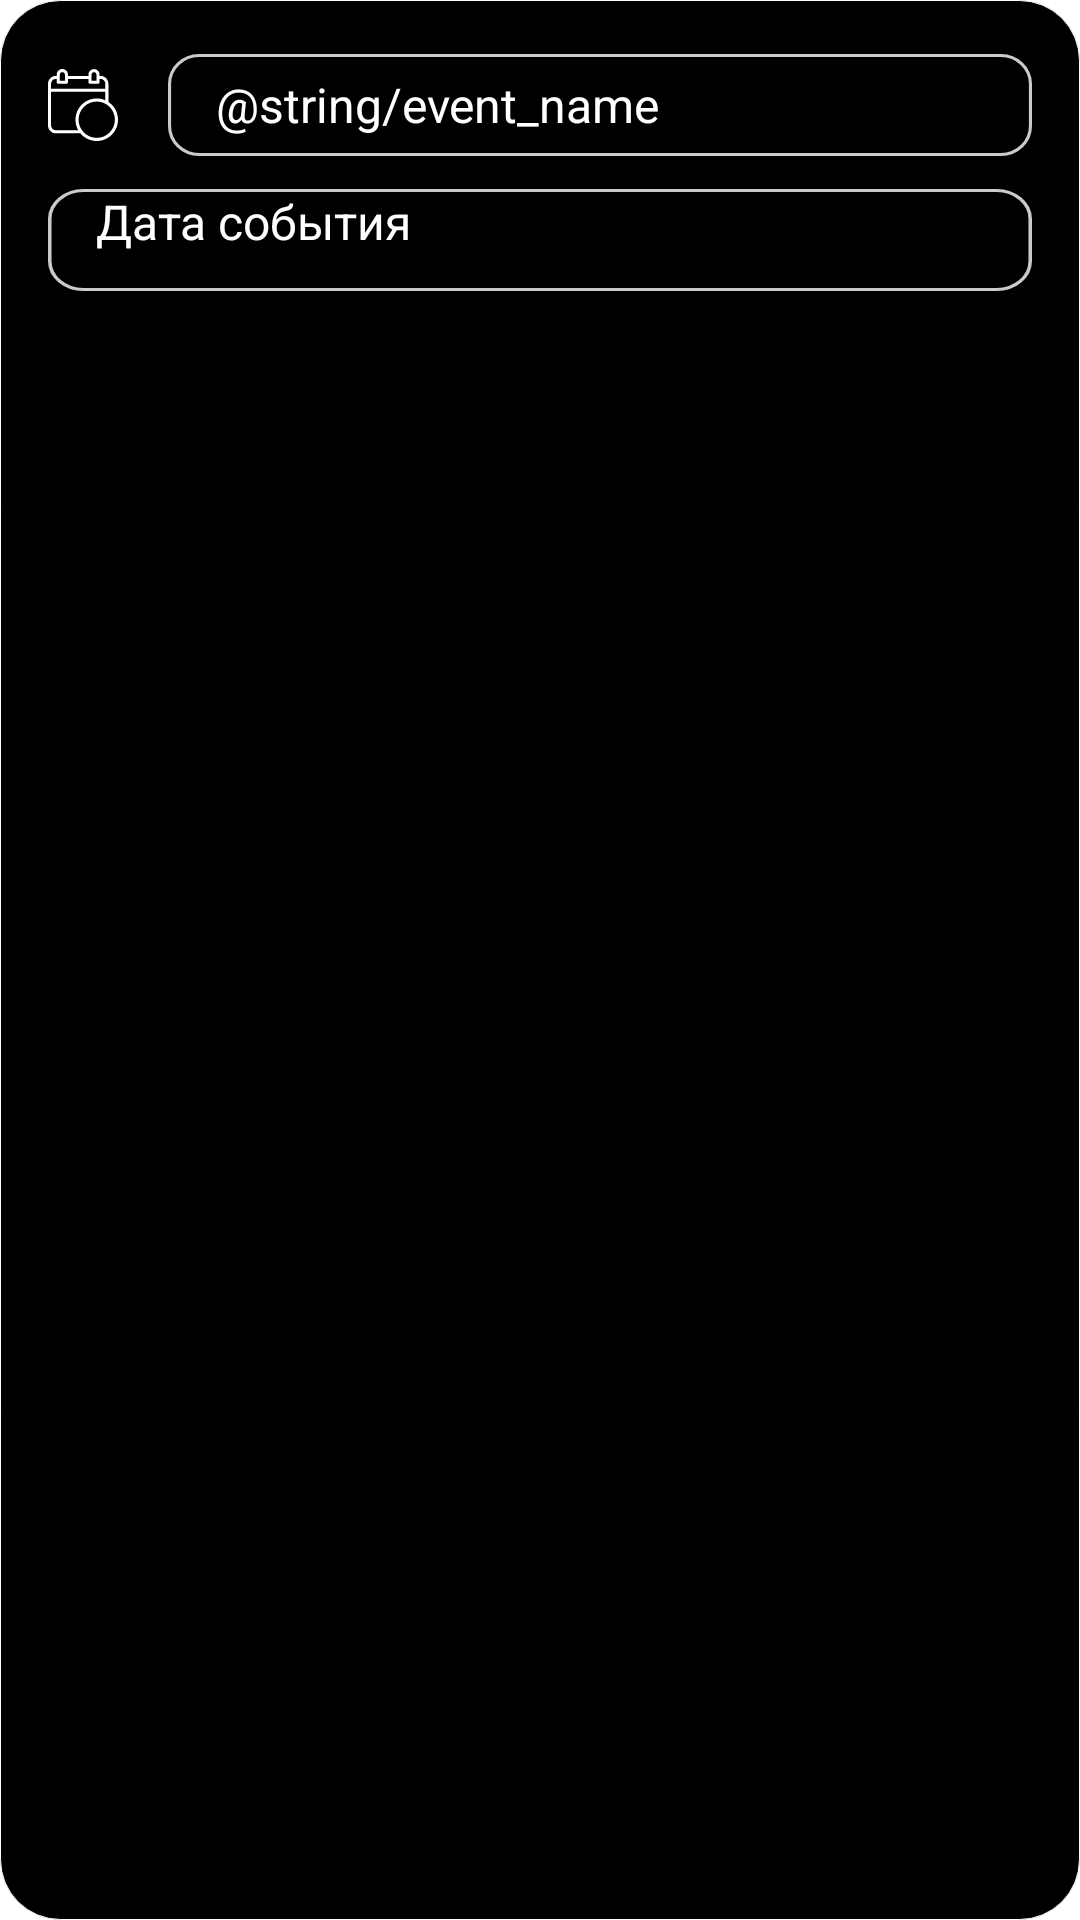

Point at icon controls on the screen. Image size 1080px×1920px, points as [x,y].
calendar: [83,105]
